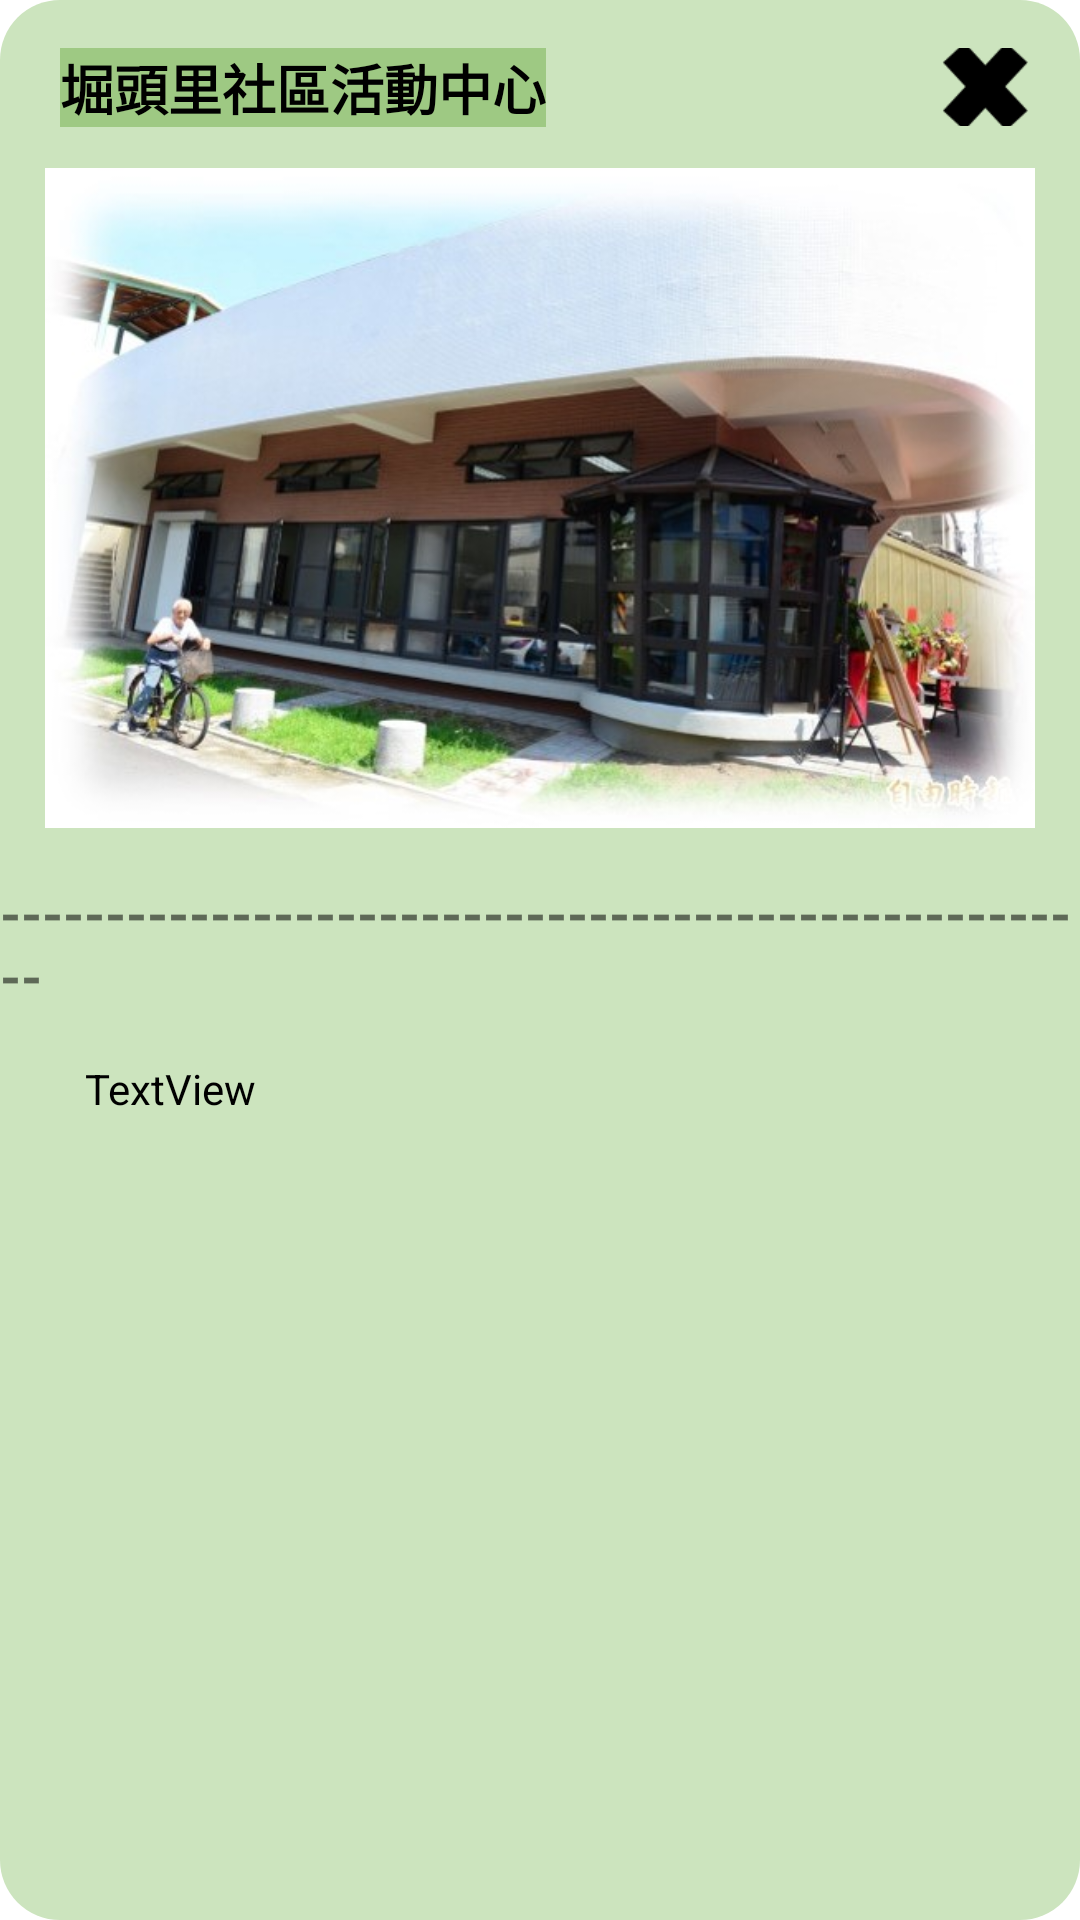

Where icons sit on this 1080×1920 app screen, as (x1, y1, x2, y2):
close: (943, 48, 1028, 126)
